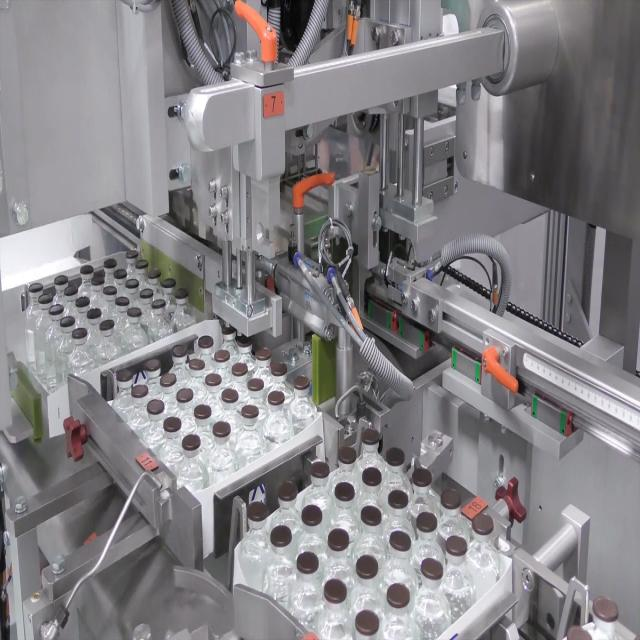vial: (473, 509, 495, 534), (440, 486, 461, 511), (443, 534, 468, 555), (361, 506, 384, 527), (410, 465, 434, 485), (356, 612, 378, 633), (420, 559, 443, 579), (295, 554, 321, 571), (388, 488, 409, 509), (354, 554, 376, 574), (389, 583, 409, 605), (390, 532, 413, 550), (272, 529, 293, 548), (386, 446, 406, 465), (300, 506, 321, 524), (328, 532, 351, 548), (417, 512, 437, 530), (335, 482, 355, 500), (358, 428, 379, 445), (325, 582, 346, 598), (362, 468, 384, 483), (211, 422, 231, 438), (278, 485, 299, 500), (311, 463, 330, 479), (249, 505, 269, 519), (339, 447, 356, 463), (222, 387, 240, 402), (193, 403, 211, 418), (254, 349, 272, 363), (162, 416, 180, 430), (205, 373, 224, 386), (295, 374, 309, 391), (272, 362, 289, 376), (250, 378, 267, 392), (131, 384, 149, 397), (182, 436, 201, 448), (160, 373, 177, 386), (190, 358, 207, 370), (146, 400, 164, 411), (269, 392, 283, 406), (178, 389, 193, 402), (236, 336, 252, 348), (116, 370, 132, 382), (86, 310, 103, 320), (233, 364, 247, 376), (242, 407, 260, 416), (72, 329, 88, 339), (58, 319, 78, 327), (102, 258, 119, 267), (173, 346, 188, 356), (147, 359, 162, 369), (219, 328, 235, 337), (198, 338, 212, 348), (150, 300, 164, 310), (76, 297, 90, 307), (216, 352, 229, 362), (175, 288, 188, 298), (140, 289, 153, 299), (136, 260, 152, 268), (54, 276, 70, 284), (80, 266, 95, 274), (92, 276, 104, 286), (64, 287, 79, 295), (162, 280, 175, 289), (148, 269, 162, 277), (100, 322, 114, 330), (126, 280, 138, 289), (39, 297, 54, 304), (28, 284, 43, 291), (115, 269, 126, 278), (127, 308, 141, 315), (124, 252, 140, 258), (49, 308, 65, 314), (117, 298, 130, 305), (104, 288, 118, 294)
